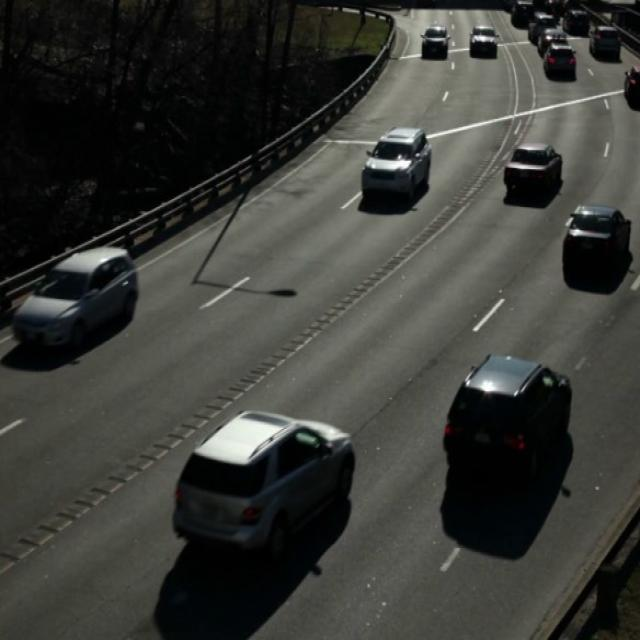car: (171, 408, 357, 565), (440, 352, 574, 473), (10, 246, 142, 364), (358, 125, 433, 205), (563, 203, 633, 276), (502, 137, 568, 201), (541, 45, 577, 82), (590, 24, 622, 64), (466, 26, 501, 61), (420, 24, 451, 62)
